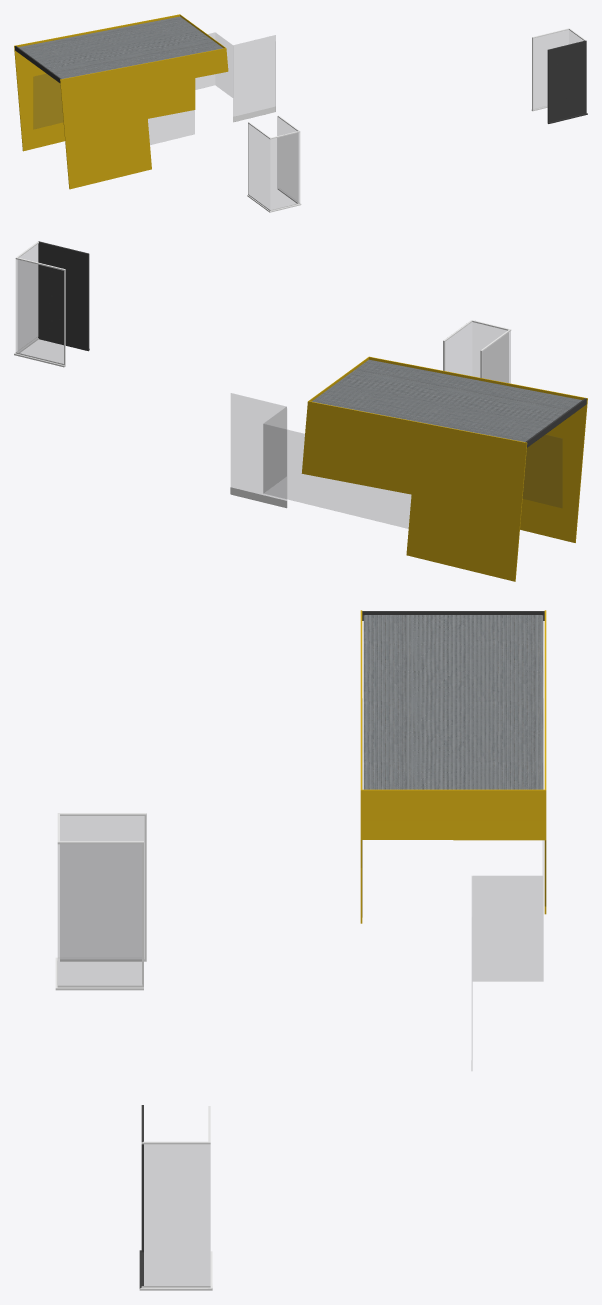
Rendered from Cover-transformed.glb.
The picture shows the model from 3 angles, top to bottom: view 1: azimuth 30°, elevation 25°; view 2: azimuth 150°, elevation 25°; view 3: azimuth 270°, elevation 25°; orthographic projection. The views are drawn at different scales.
Parts seen in each view (by area): view 1: cover-audit, cover-glass-one, rooftop-audit; view 2: cover-audit, cover-glass-one, rooftop-audit; view 3: cover-glass-one, rooftop-audit, cover-audit.
Boxes of the visible parts, bbox=[...] form: cover-audit: bbox=[14, 14, 228, 189]; cover-glass-one: bbox=[33, 28, 587, 212]; rooftop-audit: bbox=[15, 16, 587, 123]; cover-audit: bbox=[301, 356, 587, 581]; cover-glass-one: bbox=[14, 241, 562, 528]; rooftop-audit: bbox=[38, 241, 586, 447]; cover-glass-one: bbox=[55, 699, 543, 1290]; rooftop-audit: bbox=[139, 611, 544, 1288]; cover-audit: bbox=[360, 610, 546, 923].
Size of the model in its own units: 33.1 by 7.5 by 14.88.
Materials: 5 (2 with a texture image).
